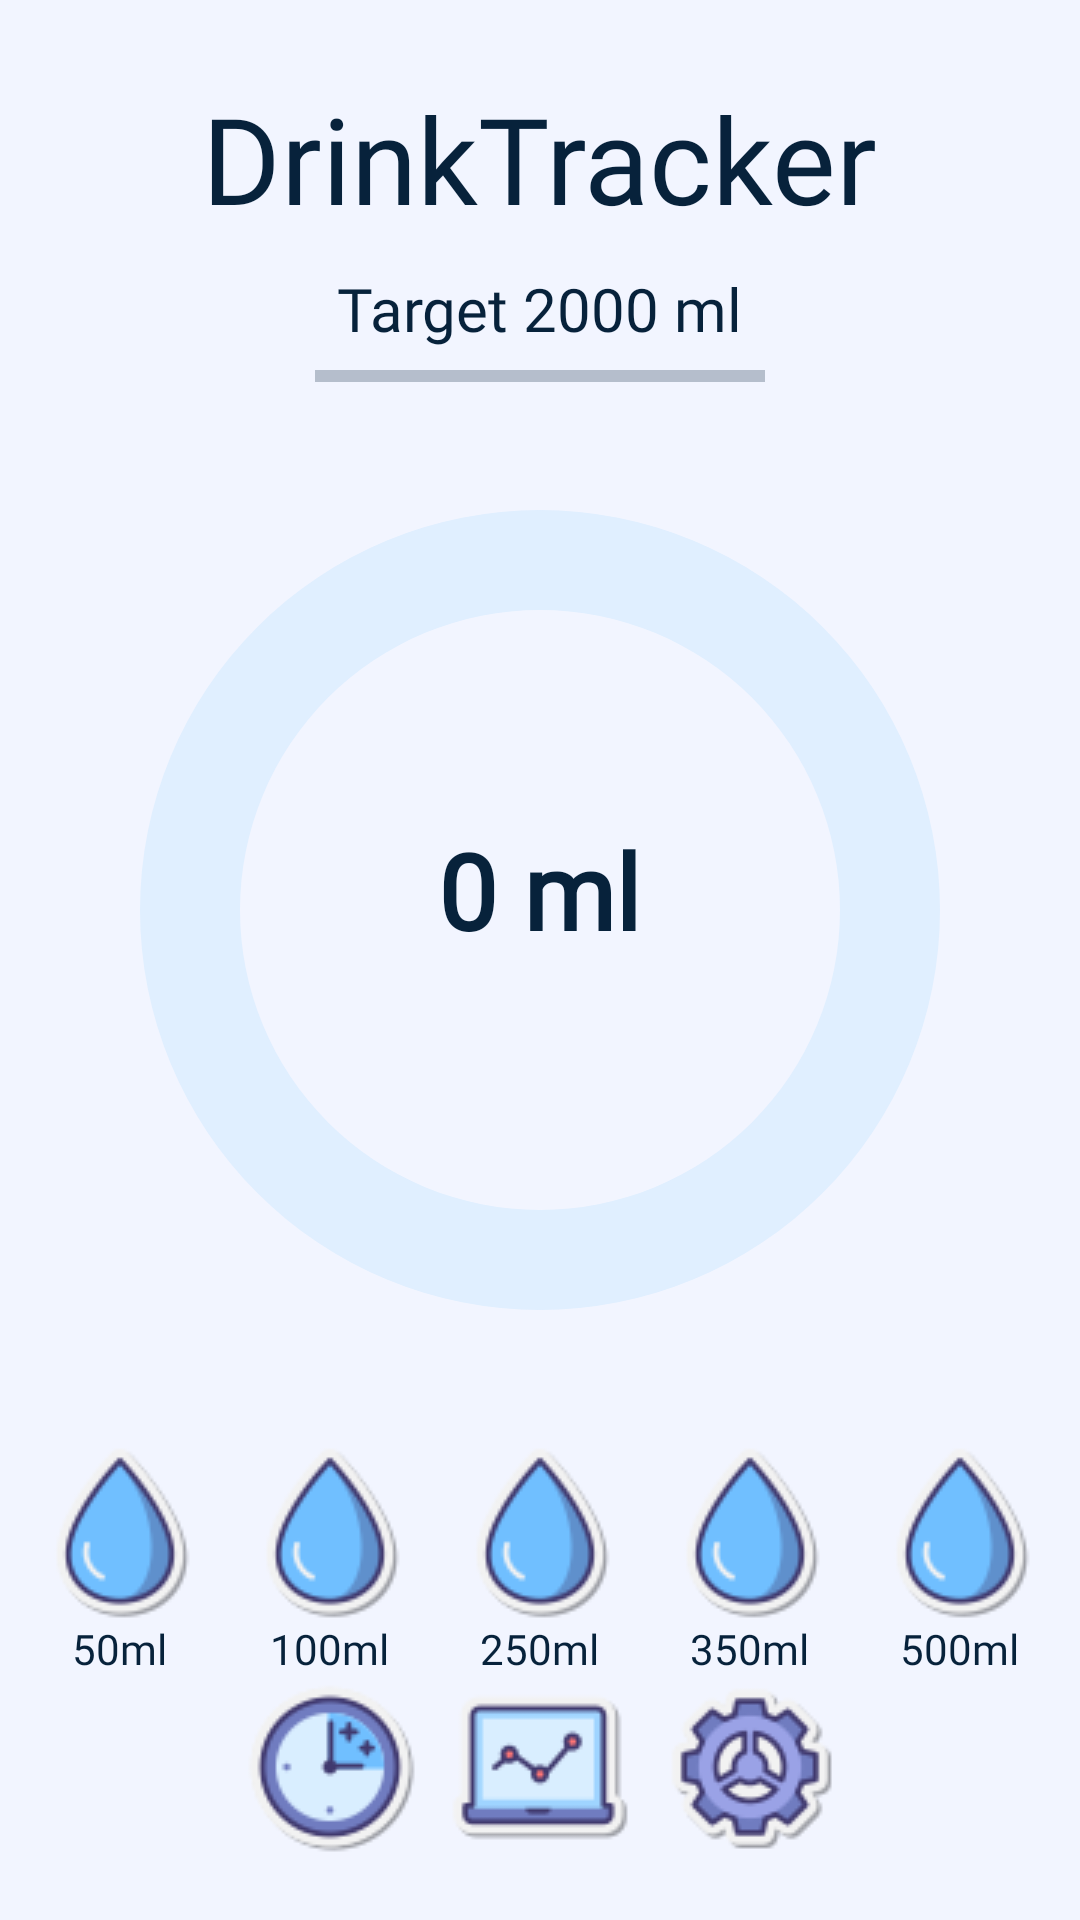

Where to tap for icons on this 1080×1920 app screen, as [x,y]:
Lihat Aktivitas: [543,1770]
Lihat Jadwal: [335,1772]
Pengaturan: [755,1772]
